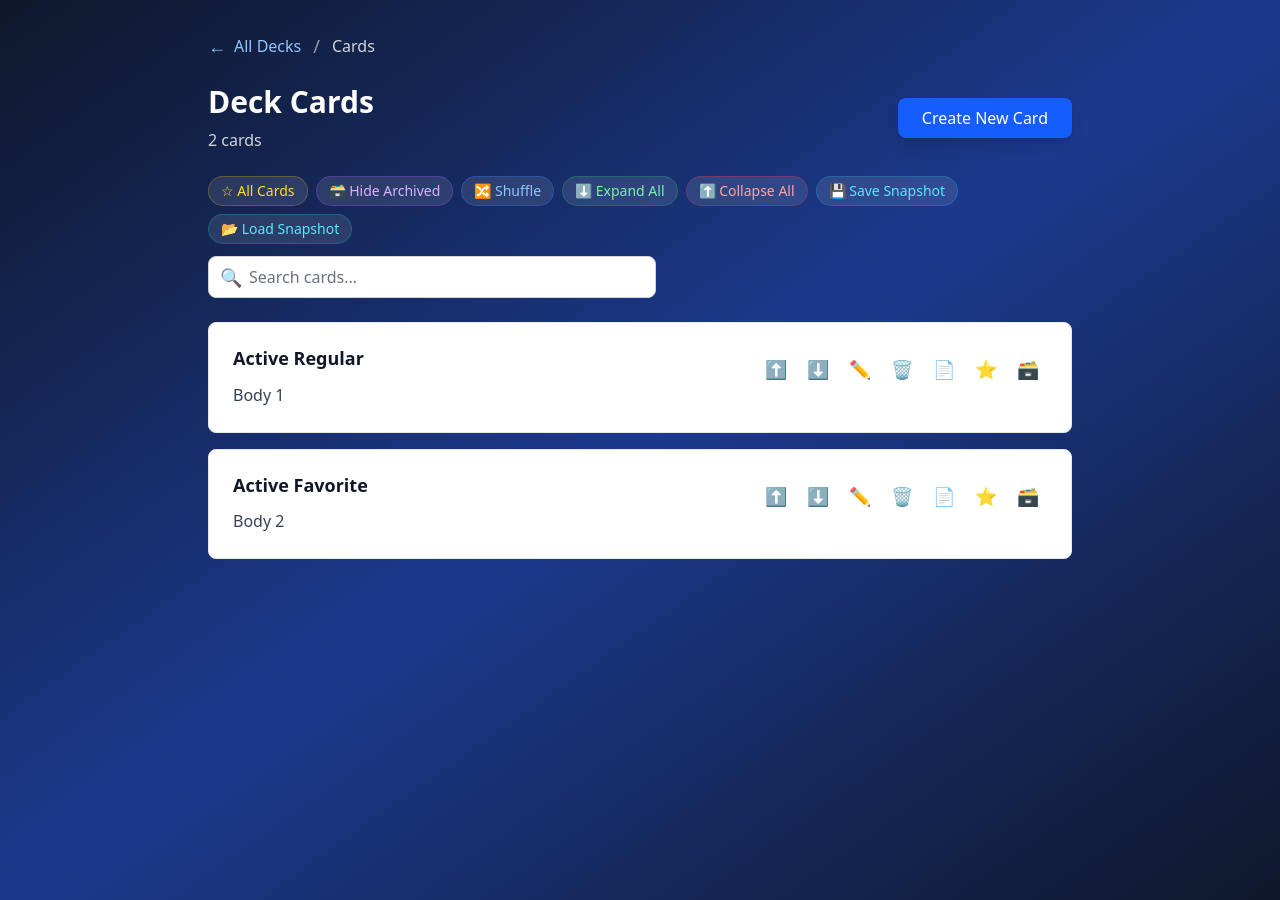
Test: CardScreen Filters (Favorites / Archived) › shows archived cards after toggling archived visibility
Step 1. Click the button with aria-label "toggle archived visibility" → (384, 191), box top-left (316, 176), bottom-right (453, 206)
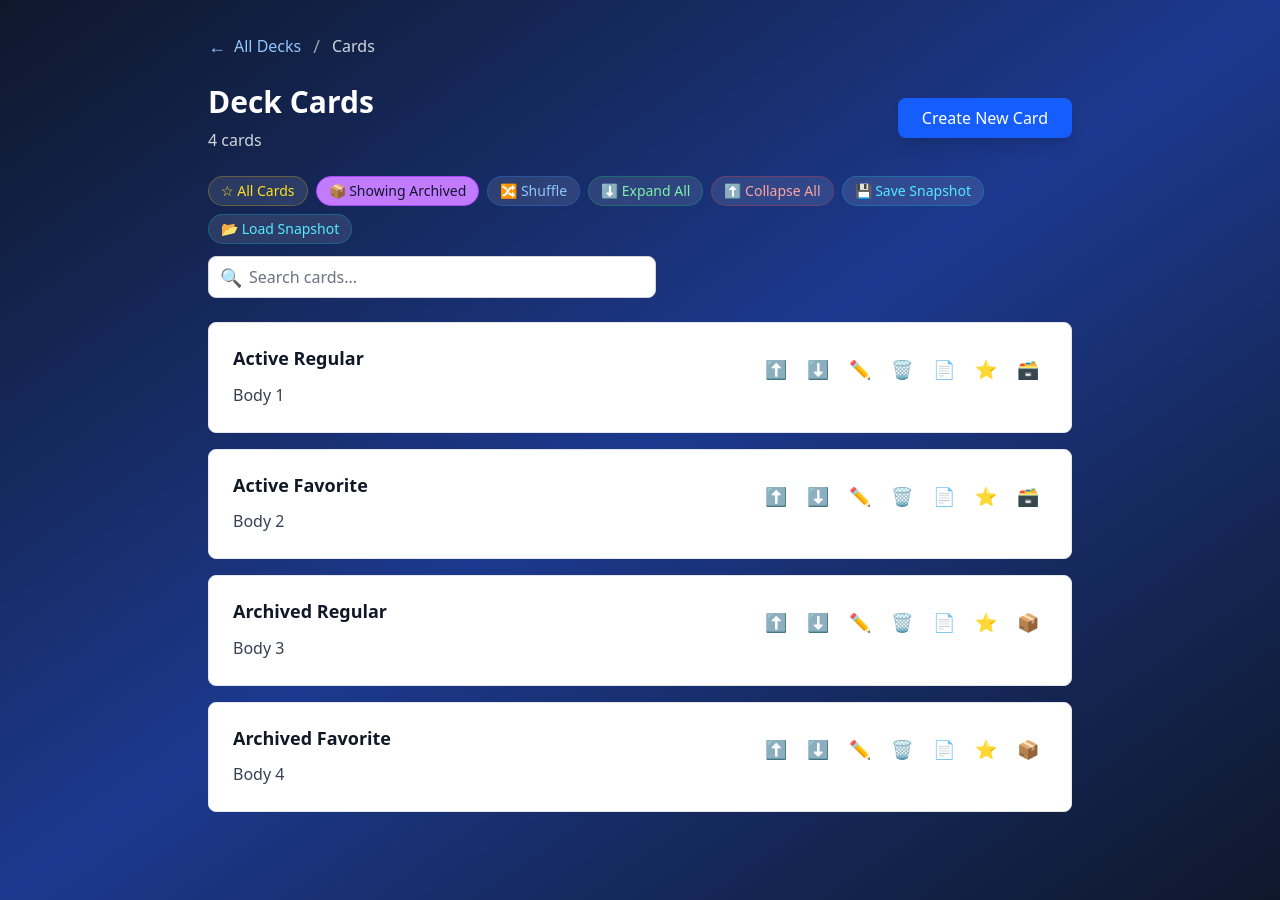
Expected: the heading "Archived Regular" is shown, top-left (233, 599), bottom-right (387, 623)
Expected: the heading "Archived Favorite" is shown, top-left (233, 726), bottom-right (391, 750)
